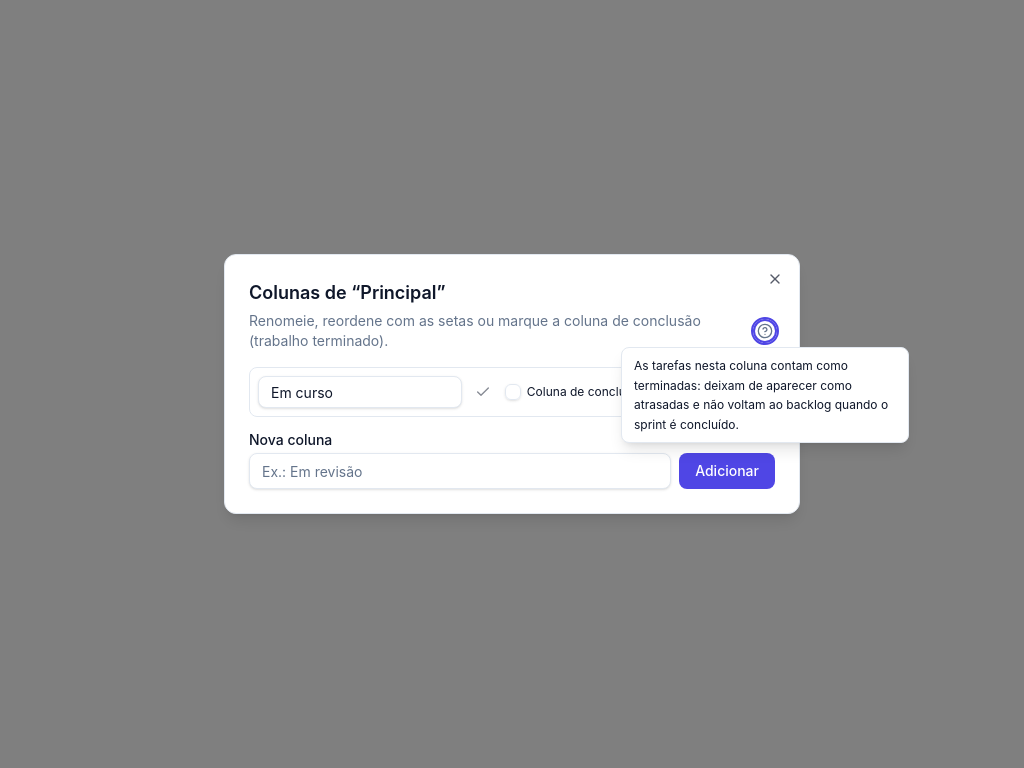
Scenario: ColumnsManagerDialog: apagar coluna › mostra a mensagem 422 da API quando a coluna tem tarefas
Click the button named "apagar coluna em curso": {"x": 750, "y": 392} [734,376,766,408]
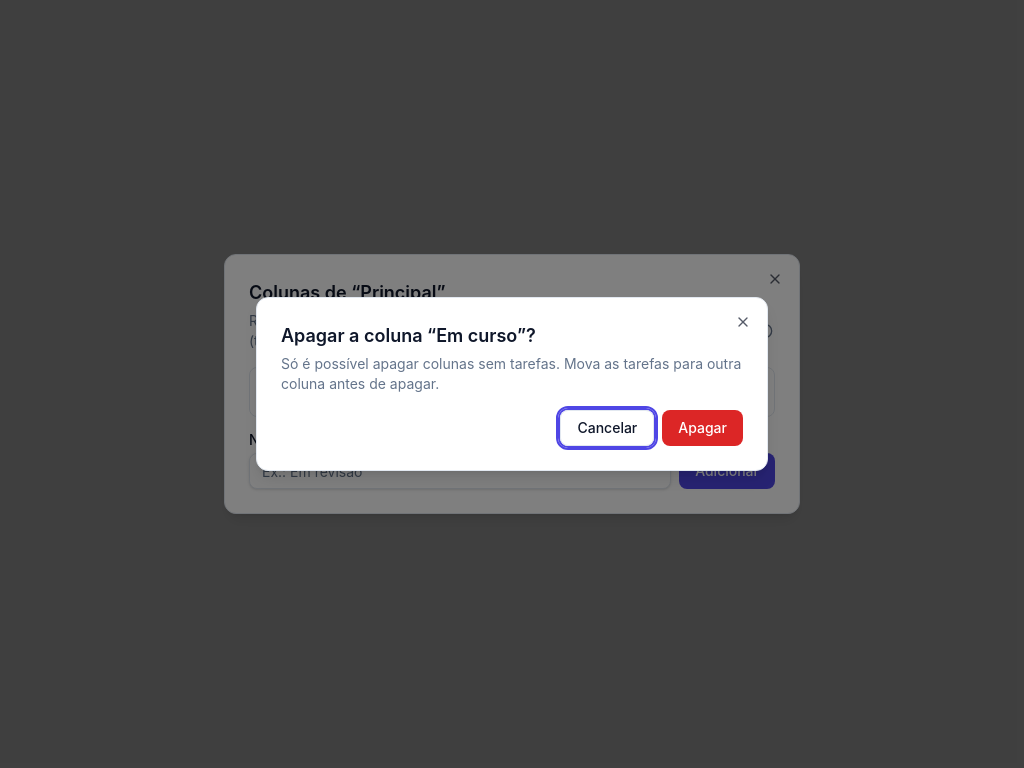
Click the button "Apagar": {"x": 703, "y": 428} [662,410,743,446]
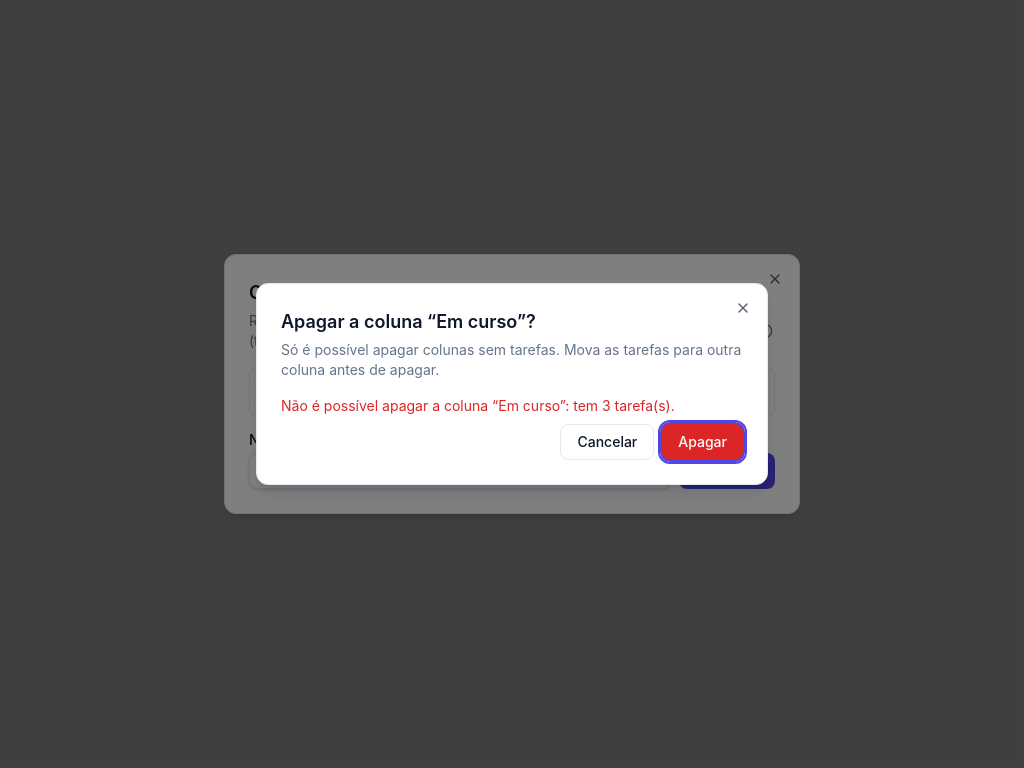
Check: the text "Não é possível apagar a coluna “Em curso”: tem 3 tarefa(s)." is shown, box [281,396,743,416]
